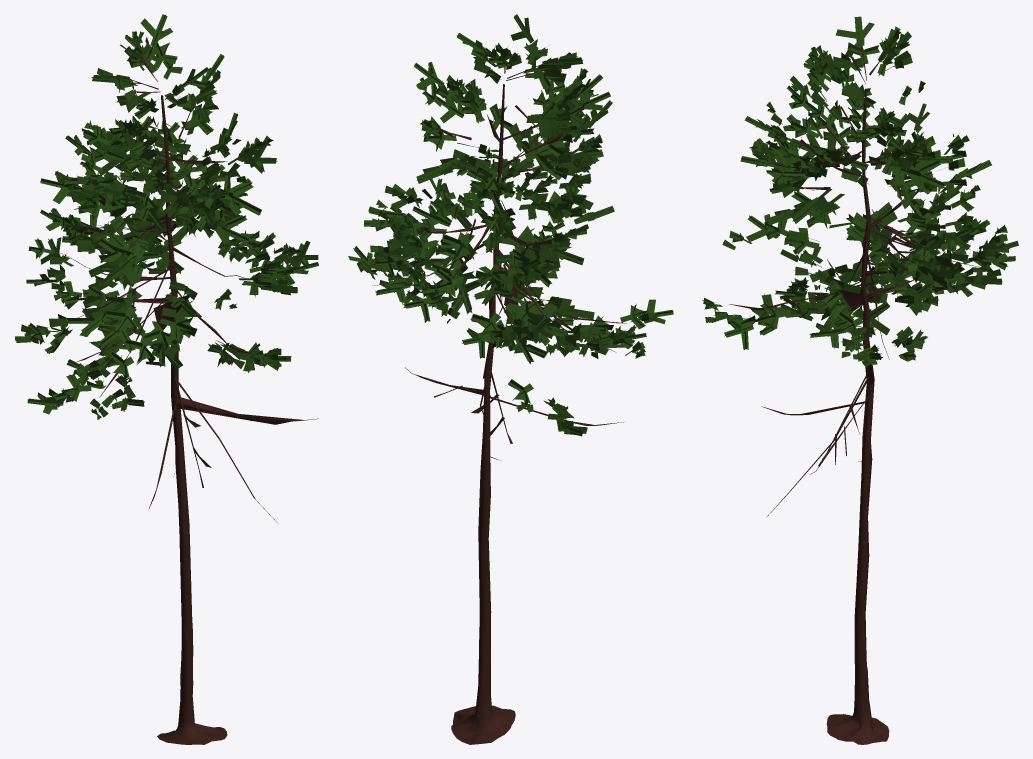
Rendered from fir_c_horizon.obj.
3 renders of one model, left to right at view 1: azimuth 30°, elevation 25°; view 2: azimuth 150°, elevation 25°; view 3: azimuth 270°, elevation 25°, orthographic. The views are drawn at different scales.
Visible parts, largest first — view 1: fir_c_horizon; view 2: fir_c_horizon; view 3: fir_c_horizon.
Part boxes in pixels (x1,y1,x2,y2): fir_c_horizon: (15,14,318,744); fir_c_horizon: (348,14,673,744); fir_c_horizon: (702,16,1018,744).
Bounding box in the file's own units: 250 × 573 × 236.
